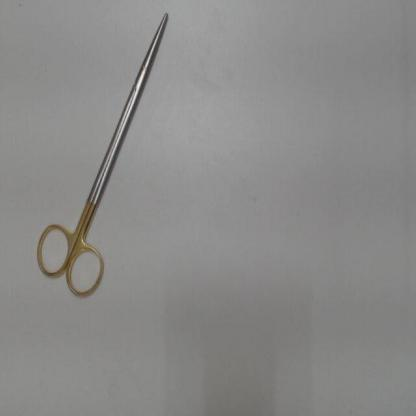7 Metzenbaum Scissors: (32, 9, 172, 306)
